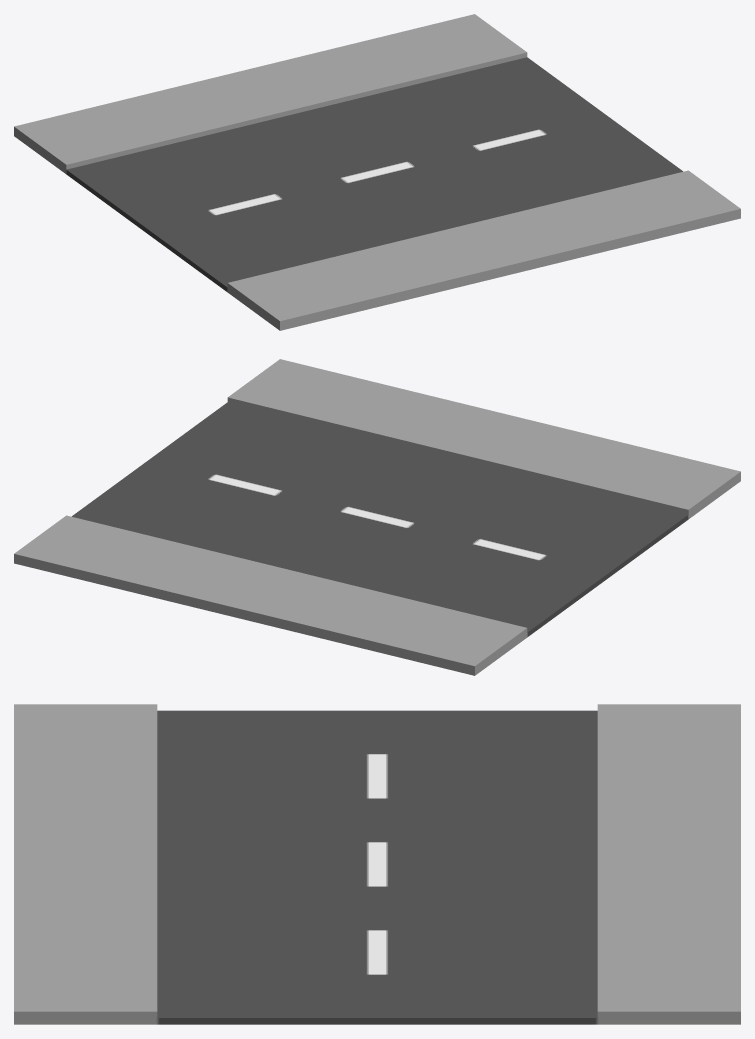
File: RoadModule01.glb
The picture shows the model from 3 angles, top to bottom: view 1: azimuth 30°, elevation 25°; view 2: azimuth 150°, elevation 25°; view 3: azimuth 270°, elevation 25°; orthographic projection. The views are drawn at different scales.
Parts seen in each view (by area): view 1: RoadModule01; view 2: RoadModule01; view 3: RoadModule01.
Part boxes in pixels (box(x1,y1,x2,y2)): RoadModule01: box(14, 14, 740, 330); RoadModule01: box(14, 359, 740, 675); RoadModule01: box(14, 704, 740, 1024).
Size of what is drawn, in the model's own units: 10 by 0.2 by 10.
1 material, 1 textured.
